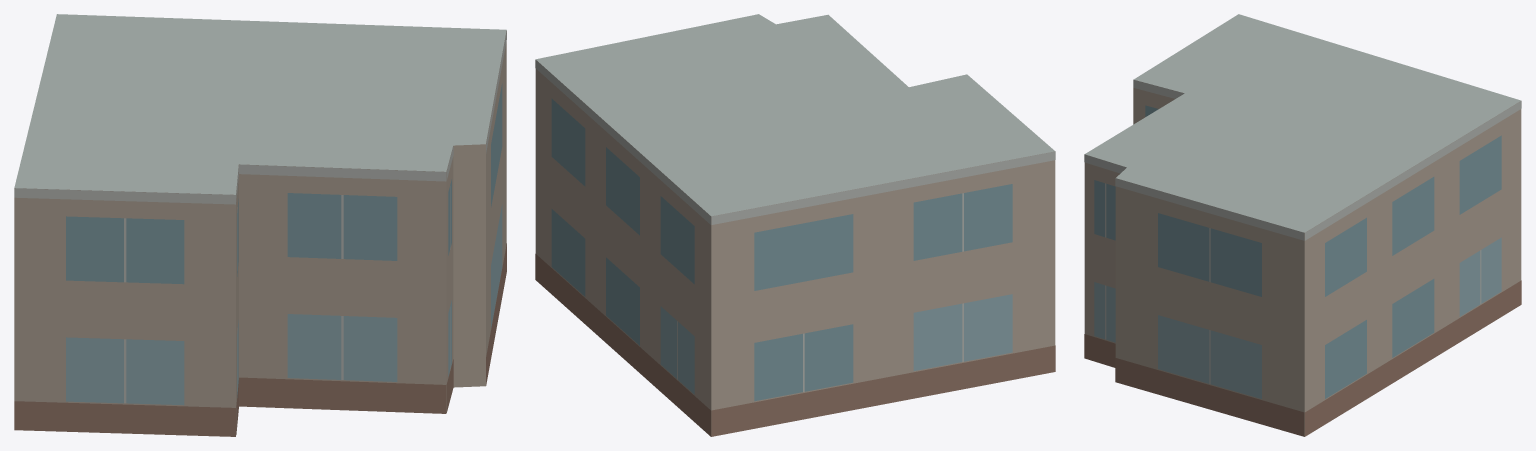
The model's file is survey-upis-32635986.glb.
3 views of the same model, side by side, from view 1: azimuth 30°, elevation 25°; view 2: azimuth 150°, elevation 25°; view 3: azimuth 270°, elevation 25° (orthographic). The views are drawn at different scales.
Visible parts, largest first — view 1: survey-upis-32635986.tmp; view 2: survey-upis-32635986.tmp; view 3: survey-upis-32635986.tmp.
Boxes of the visible parts, x1,y1,x2,y2 form: survey-upis-32635986.tmp: [14, 14, 506, 436]; survey-upis-32635986.tmp: [535, 14, 1055, 436]; survey-upis-32635986.tmp: [1084, 14, 1521, 436].
Size of the model in its own units: 14.03 by 6.1 by 11.85.
